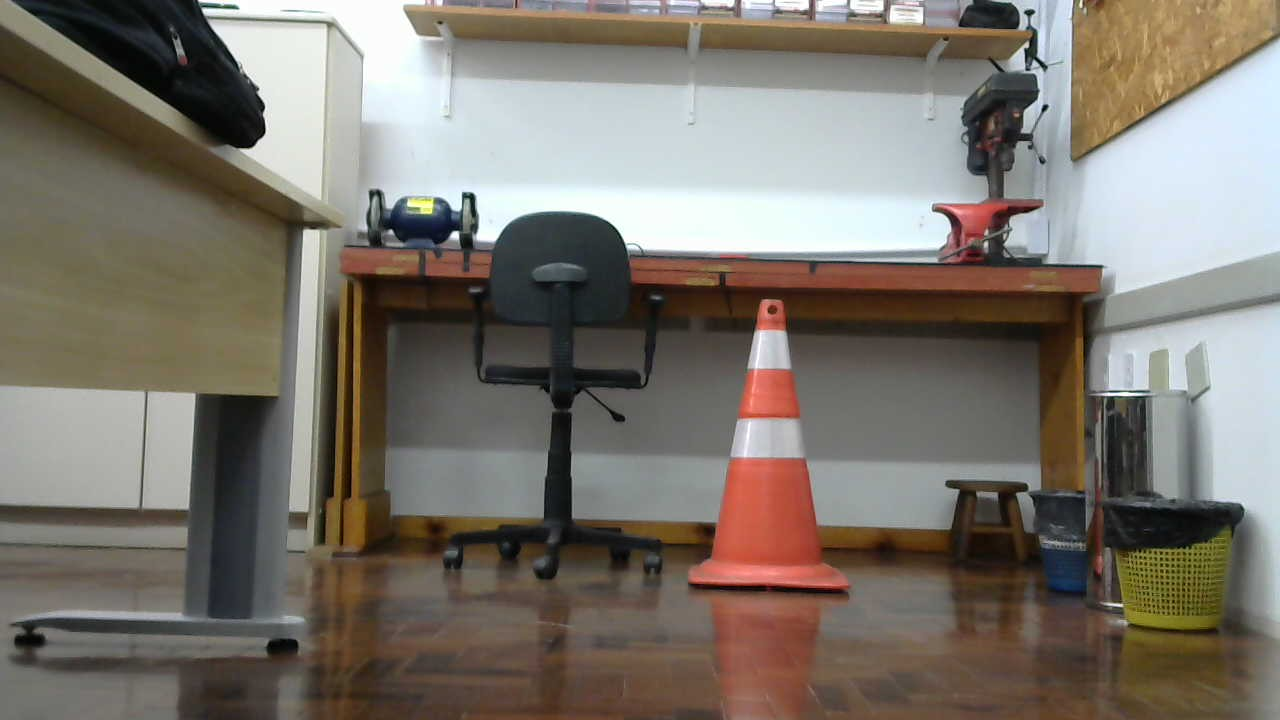cone: (687, 299, 851, 594)
